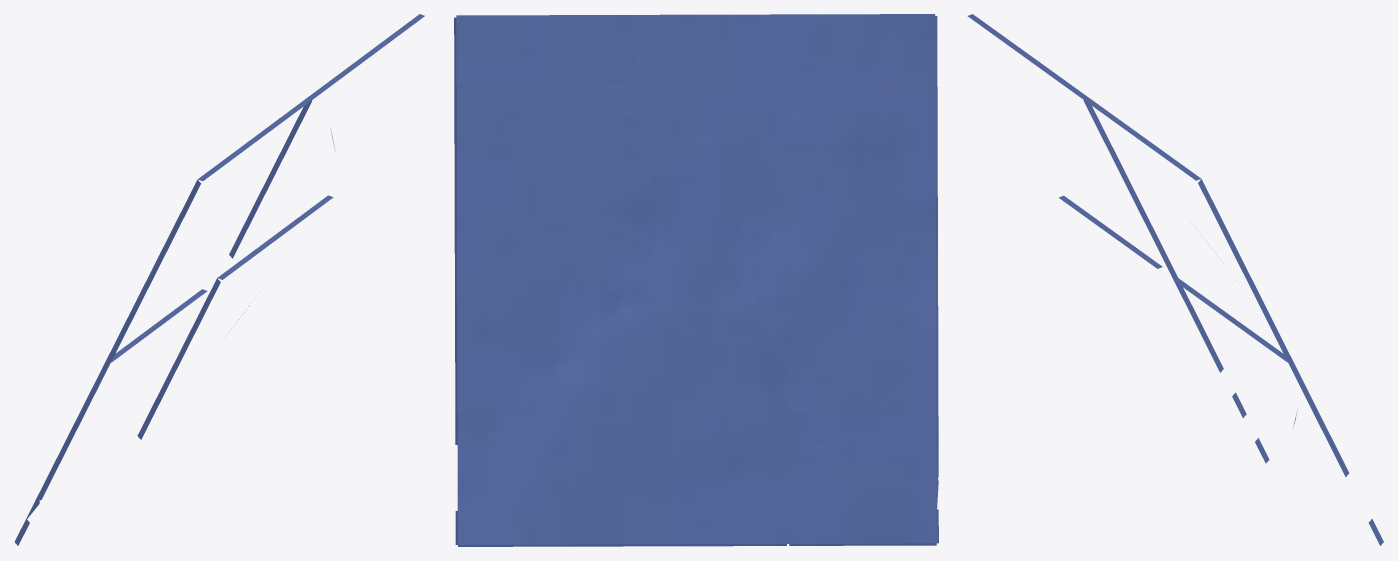
The picture shows the model from 3 angles, left to right: view 1: azimuth 30°, elevation 25°; view 2: azimuth 150°, elevation 25°; view 3: azimuth 270°, elevation 25°; orthographic projection. The views are drawn at different scales.
Size of the model in its own units: 39478 by 35823 by 32825.
Materials: 1 (1 with a texture image).
